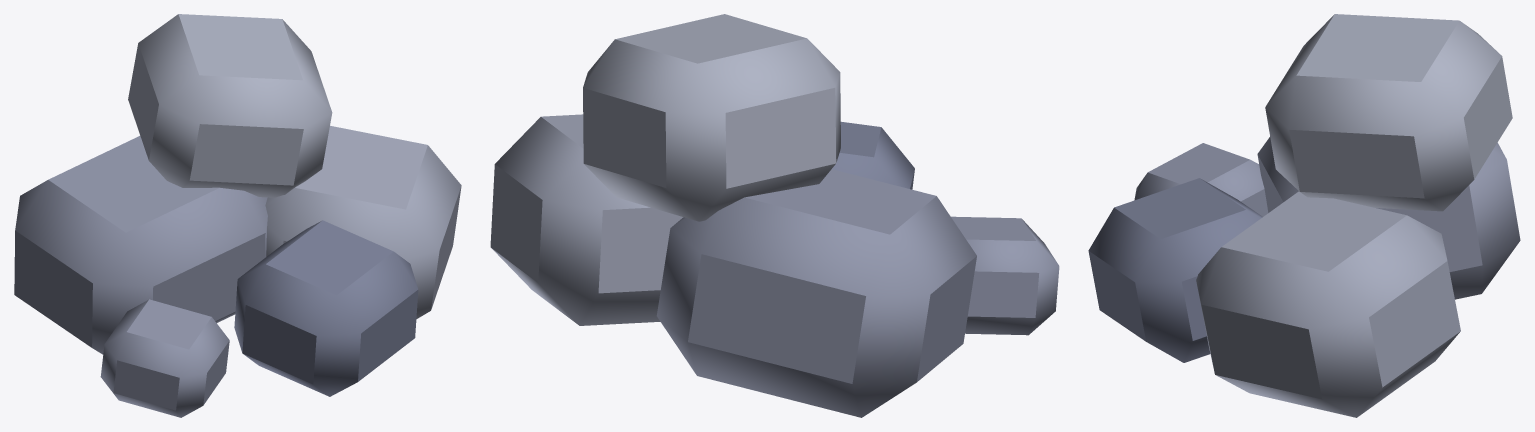
File: p_pile_stone.glb
The picture shows the model from 3 angles, left to right: view 1: azimuth 30°, elevation 25°; view 2: azimuth 150°, elevation 25°; view 3: azimuth 270°, elevation 25°; orthographic projection. The views are drawn at different scales.
Parts seen in each view (by area): view 1: body; view 2: body; view 3: body.
Part boxes in pixels (<box>): body: <box>14,14,461,417</box>; body: <box>490,14,1059,417</box>; body: <box>1088,14,1520,417</box>.
Size of the model in its own units: 1.67 by 1.13 by 1.42.
